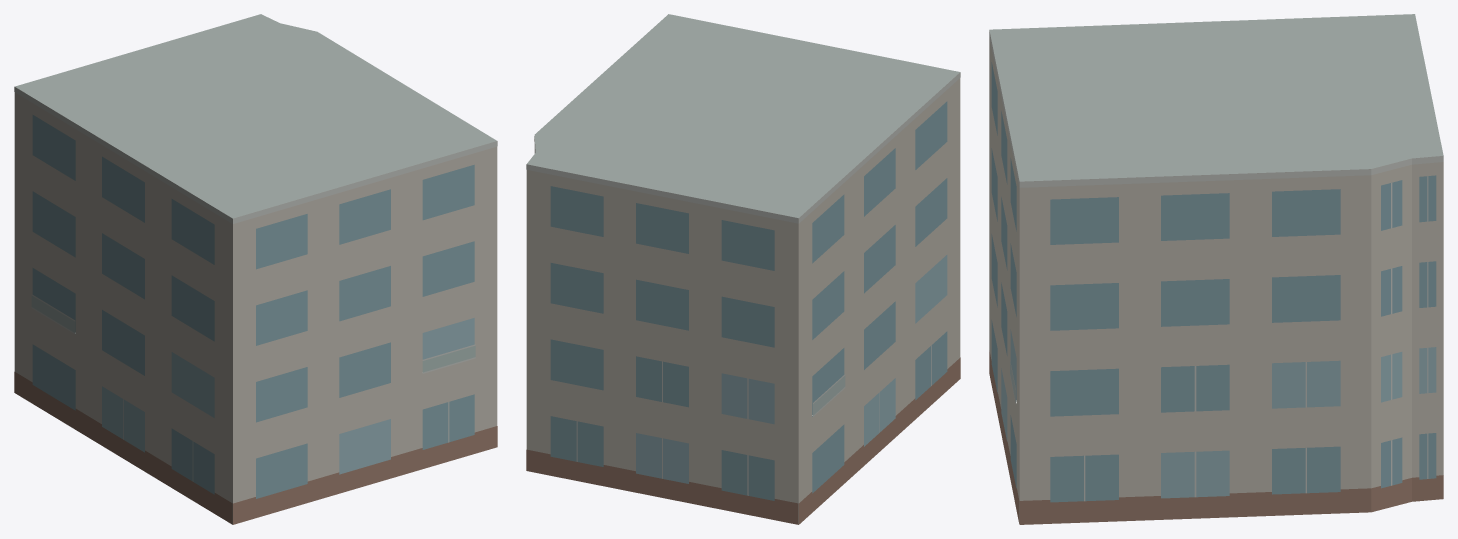
Rendered from survey-upis-33046143.glb.
The picture shows the model from 3 angles, left to right: view 1: azimuth 30°, elevation 25°; view 2: azimuth 150°, elevation 25°; view 3: azimuth 270°, elevation 25°; orthographic projection. The views are drawn at different scales.
Parts seen in each view (by area): view 1: survey-upis-33046143.tmp; view 2: survey-upis-33046143.tmp; view 3: survey-upis-33046143.tmp.
Part boxes in pixels (box(x1,y1,x2,y2)): survey-upis-33046143.tmp: box(14, 14, 497, 524); survey-upis-33046143.tmp: box(526, 14, 960, 524); survey-upis-33046143.tmp: box(989, 14, 1443, 524).
Size of the model in its own units: 14.15 by 13.5 by 16.21.
